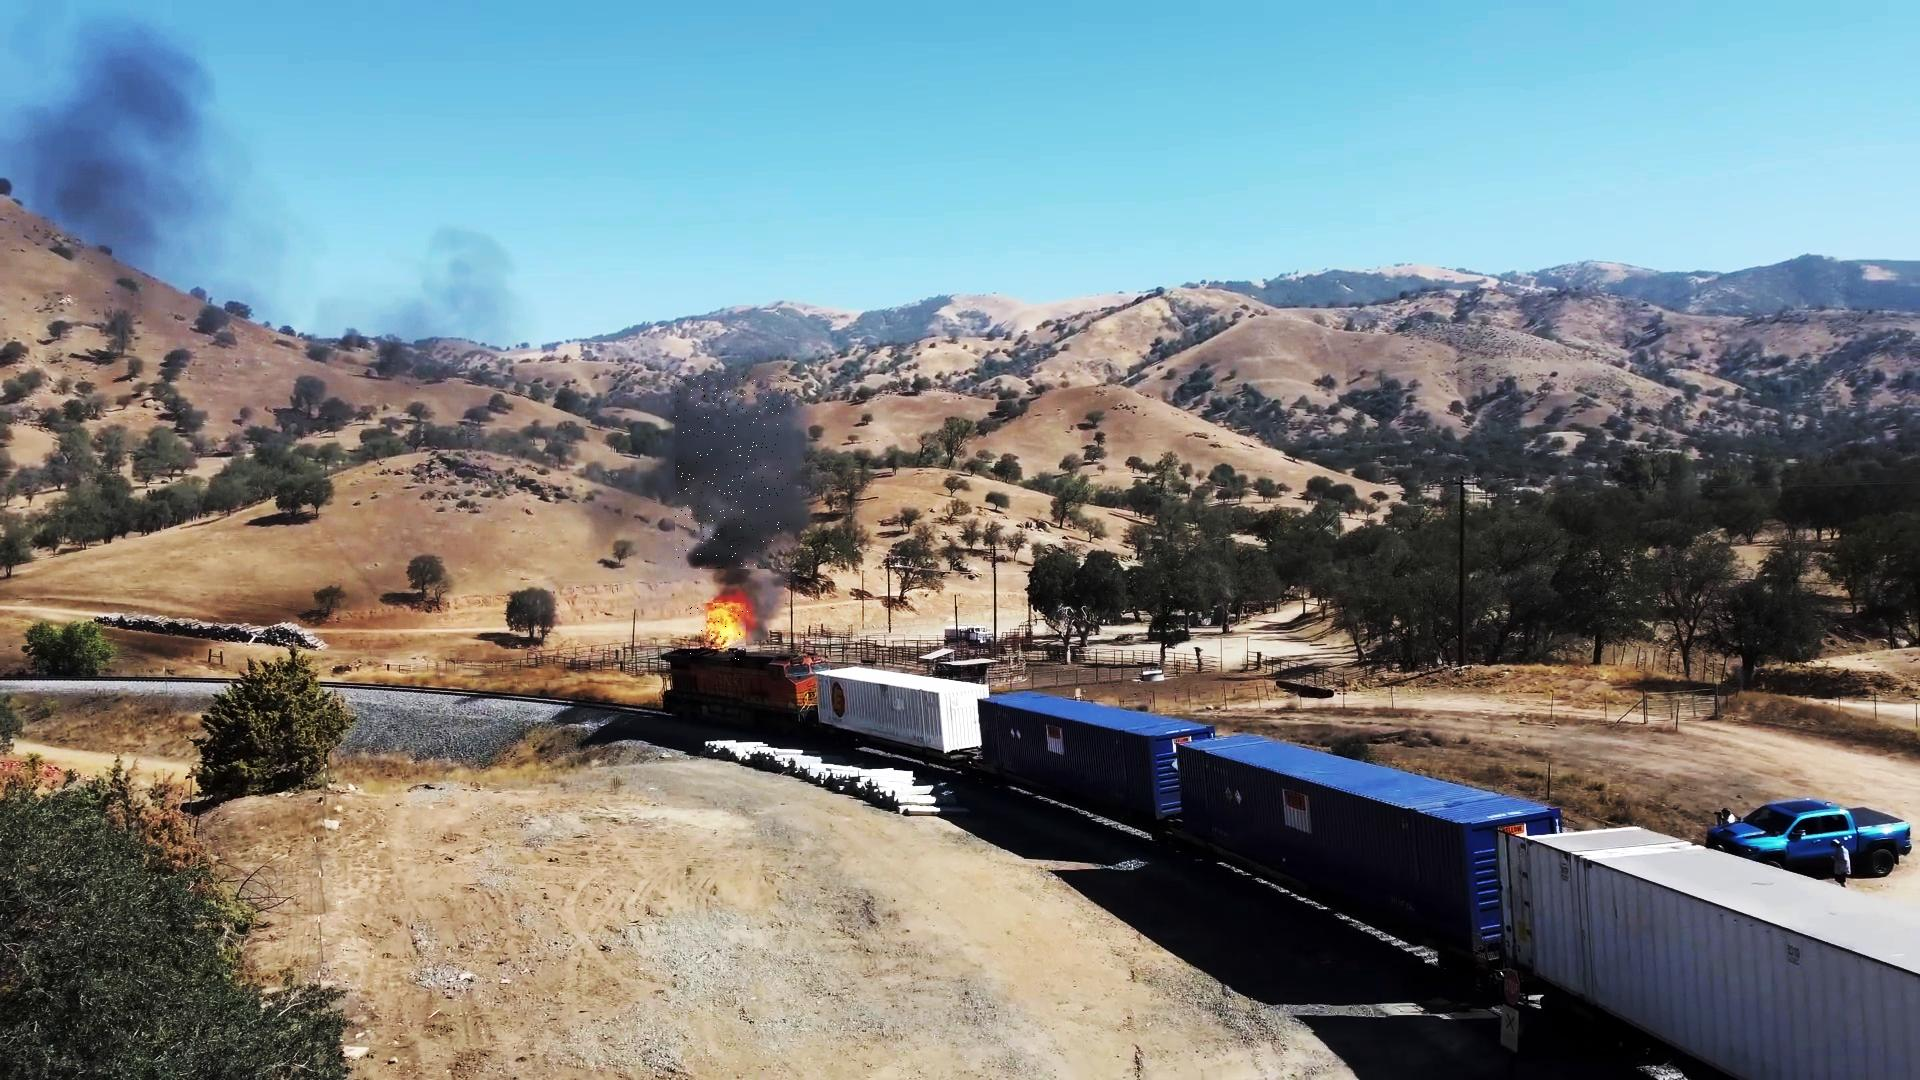fire: (691, 603, 749, 662)
smoke: (676, 376, 789, 572)
